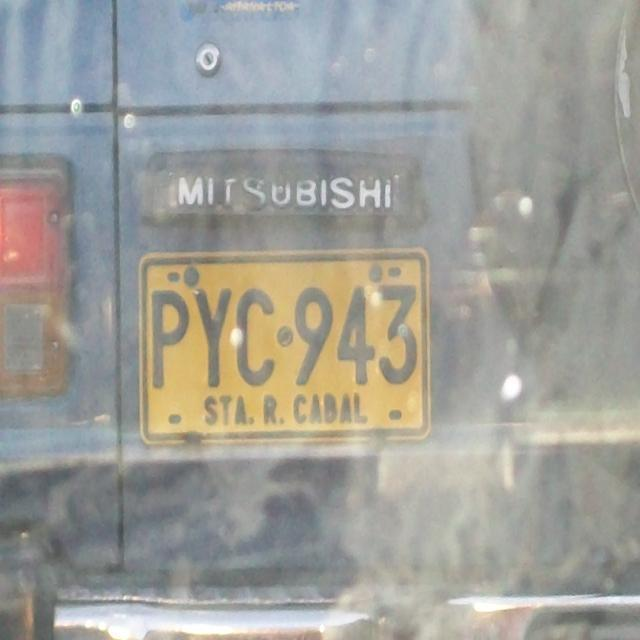placa: (136, 244, 434, 452)
